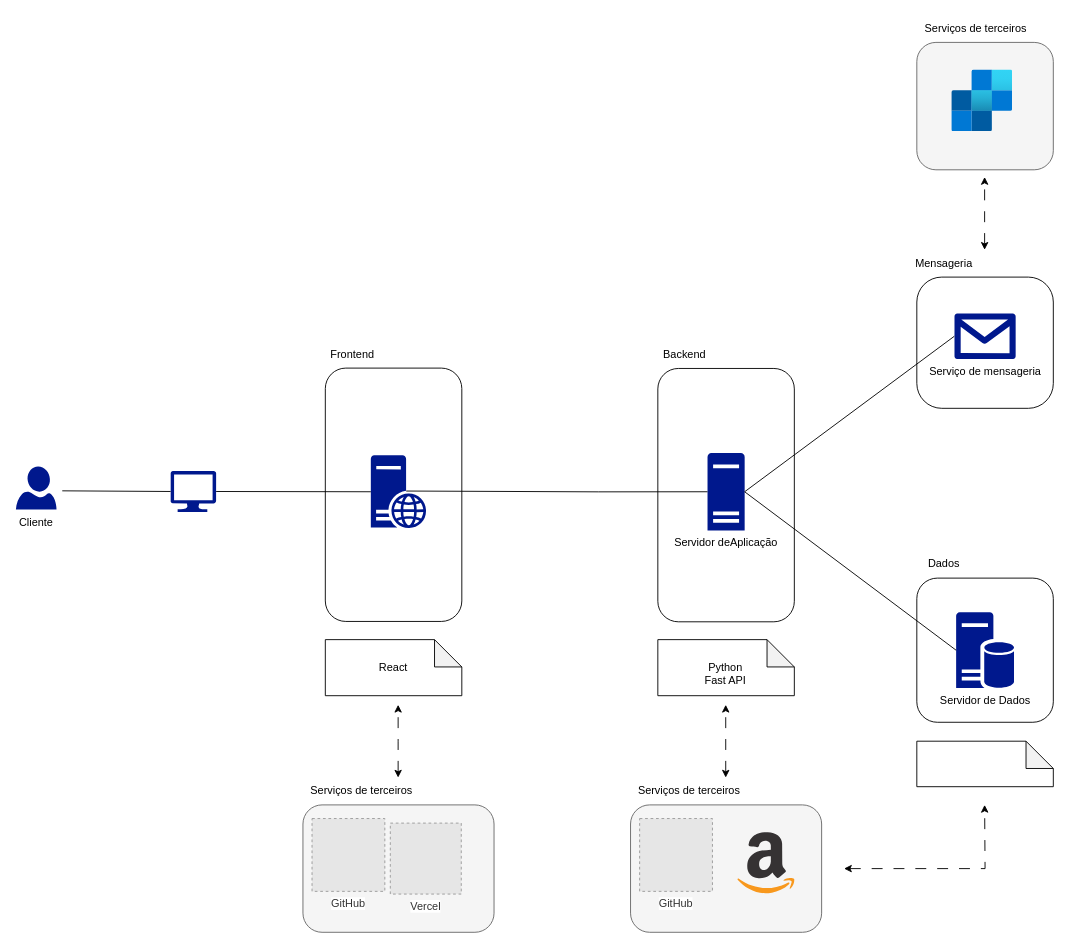
The diagram is 1069 pixels wide and 949 high, and some of its shapes have lost their labels. Grey dashed boxes stand in for pictures. The centre of each missing label's shape, as x and y in pixels:
Amazon: (765,862)
MySQL: (984,763)
Navegador Web: (193,491)
Send Grid: (981,100)
Servidor web: (398,491)
